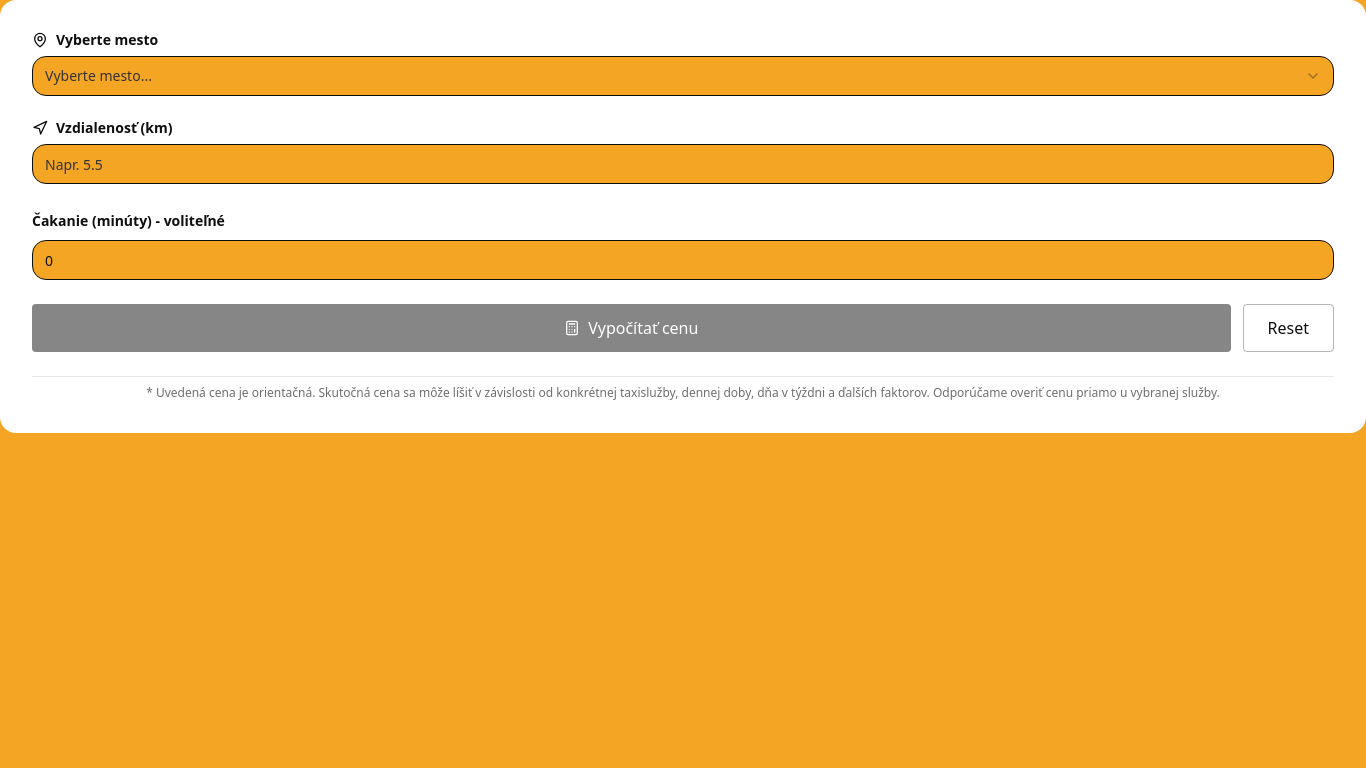
Test case: PriceCalculator › Výpočet ceny › správne vypočíta cenu: nástupné + km + čakanie
The image size is (1366, 768).
Vyber mesto Bratislava
Click the dropdown. click: (98, 76)
box: [32,56,1334,96]
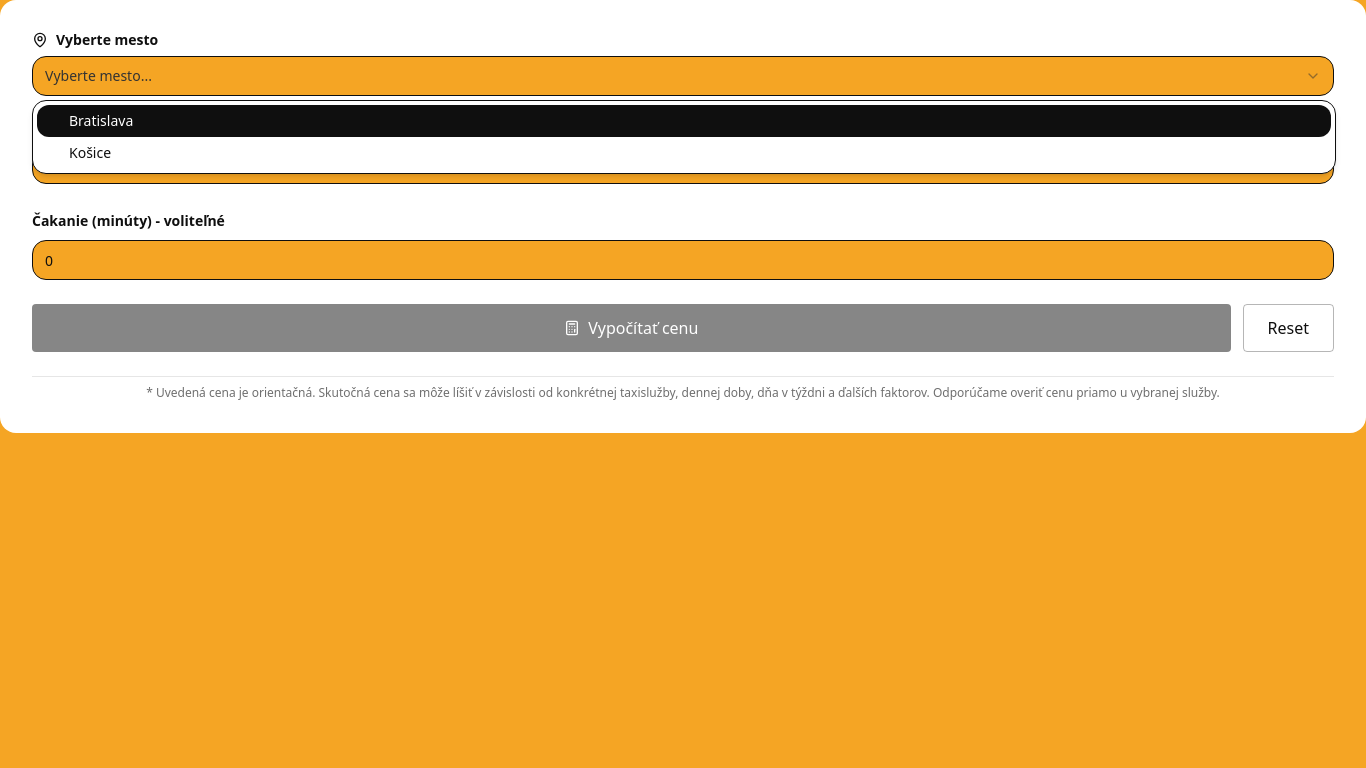
Click the option "Bratislava". click: (101, 120)
box: [37,105,1331,137]
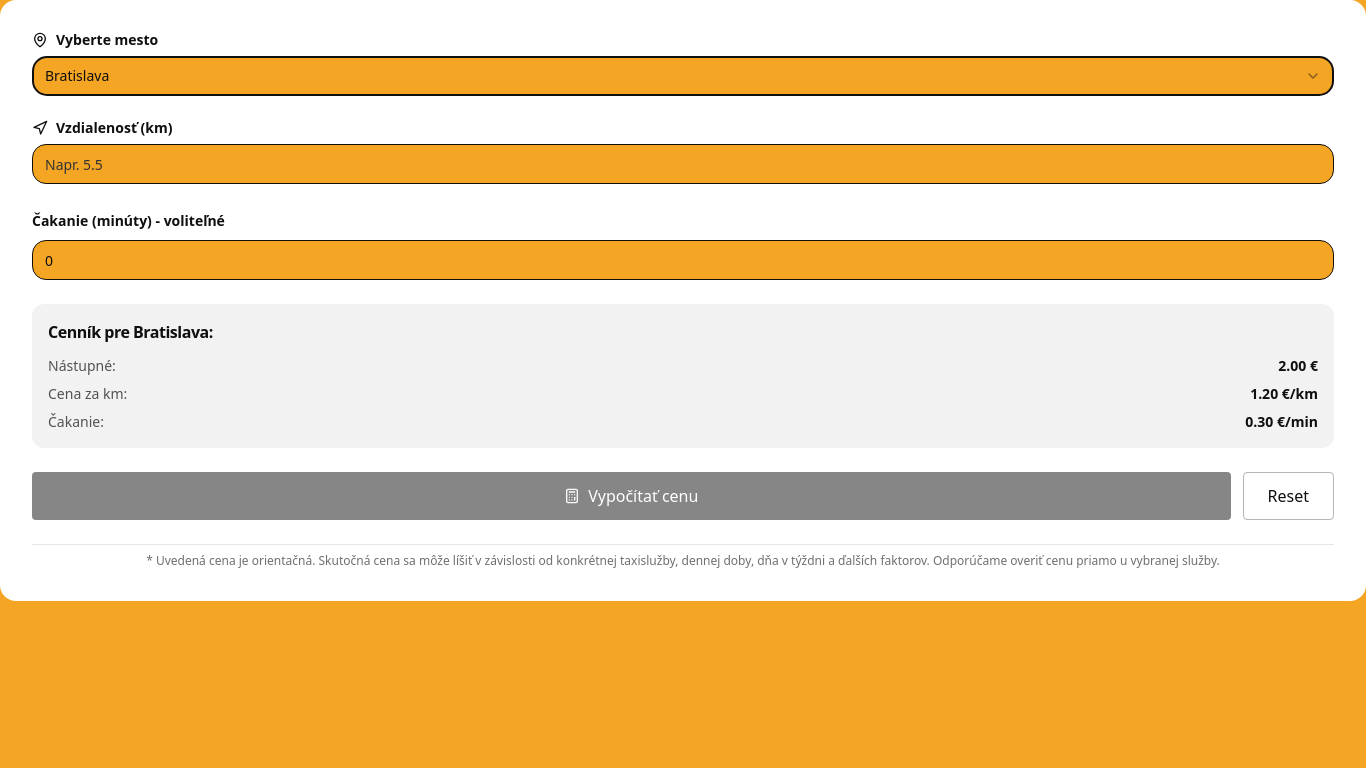
Zadaj vzdialenosť 10 km
Type "10" into the number field labelled "Vzdialenosť (km)". click: (683, 164)
box: [32,144,1334,184]
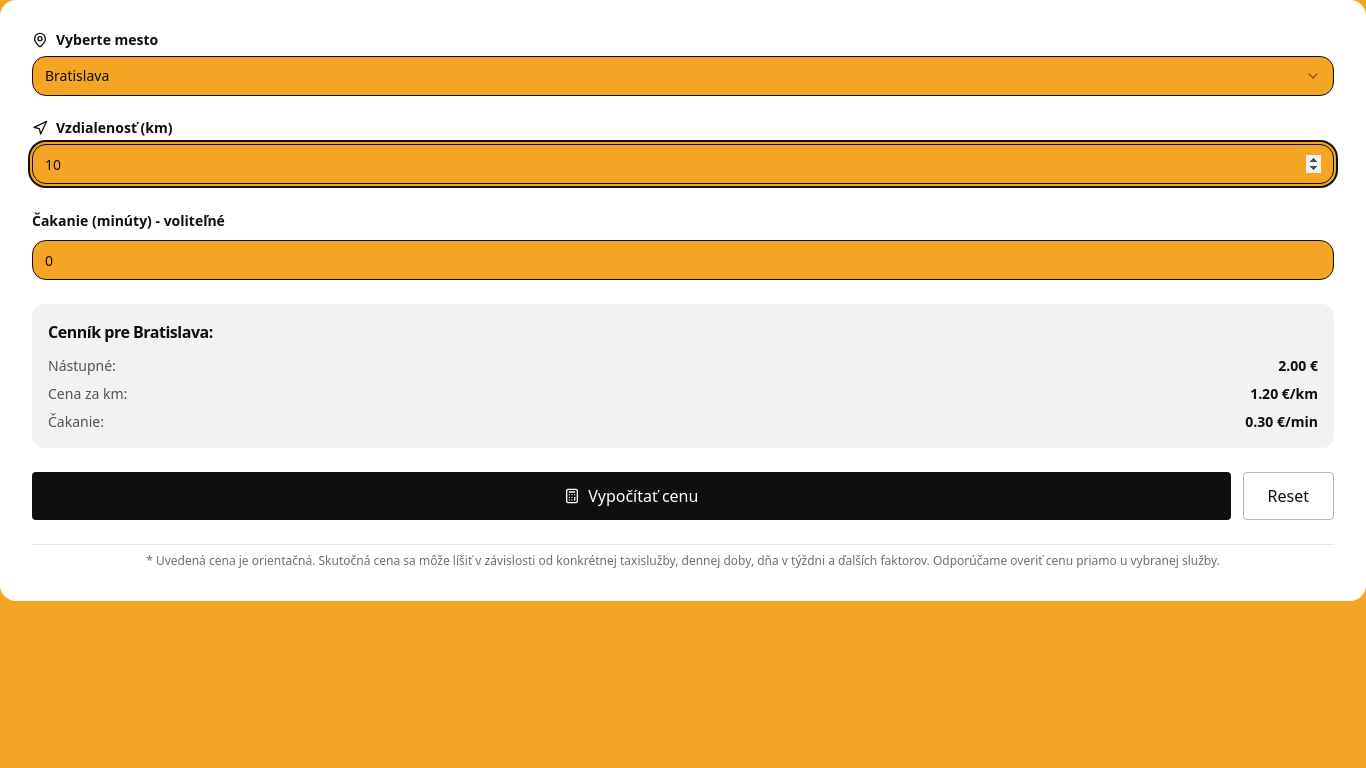
Zadaj čakanie 5 minút
Type "5" into the number field labelled "Čakanie (minúty) - voliteľné". click: (683, 260)
box: [32,240,1334,280]
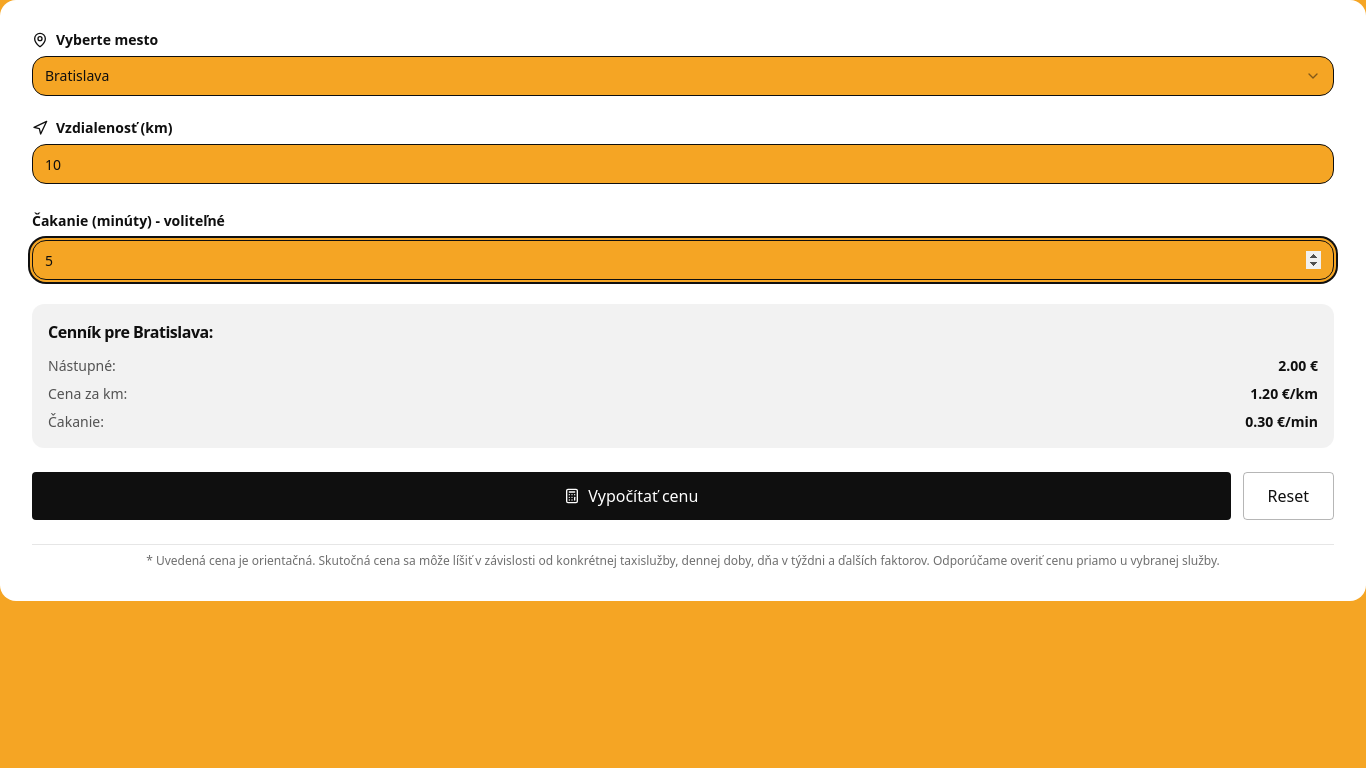
Klikni na Vypočítať
Click the button "Vypočítať cenu". click: (631, 496)
box: [32,472,1230,520]
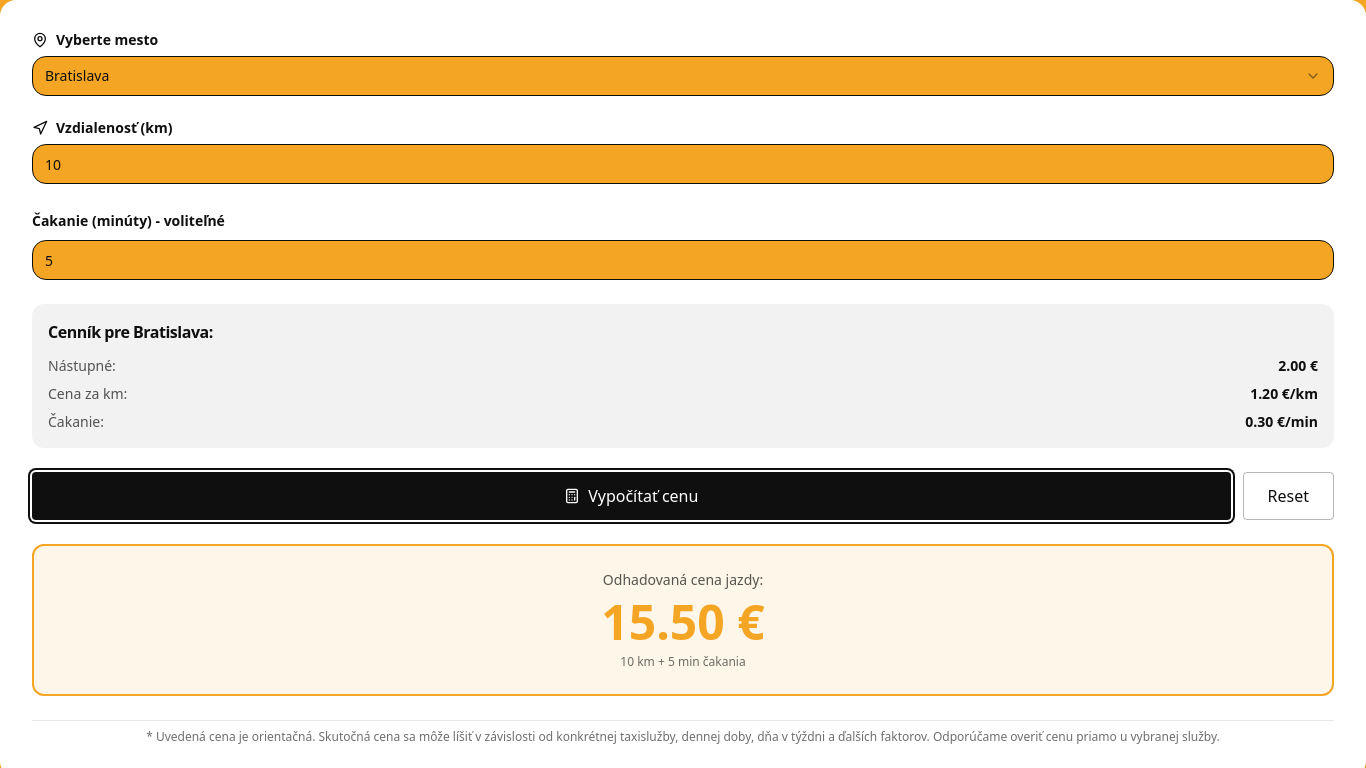
expect the text "15.50 €" is shown: met, box [601,589,765,654]
